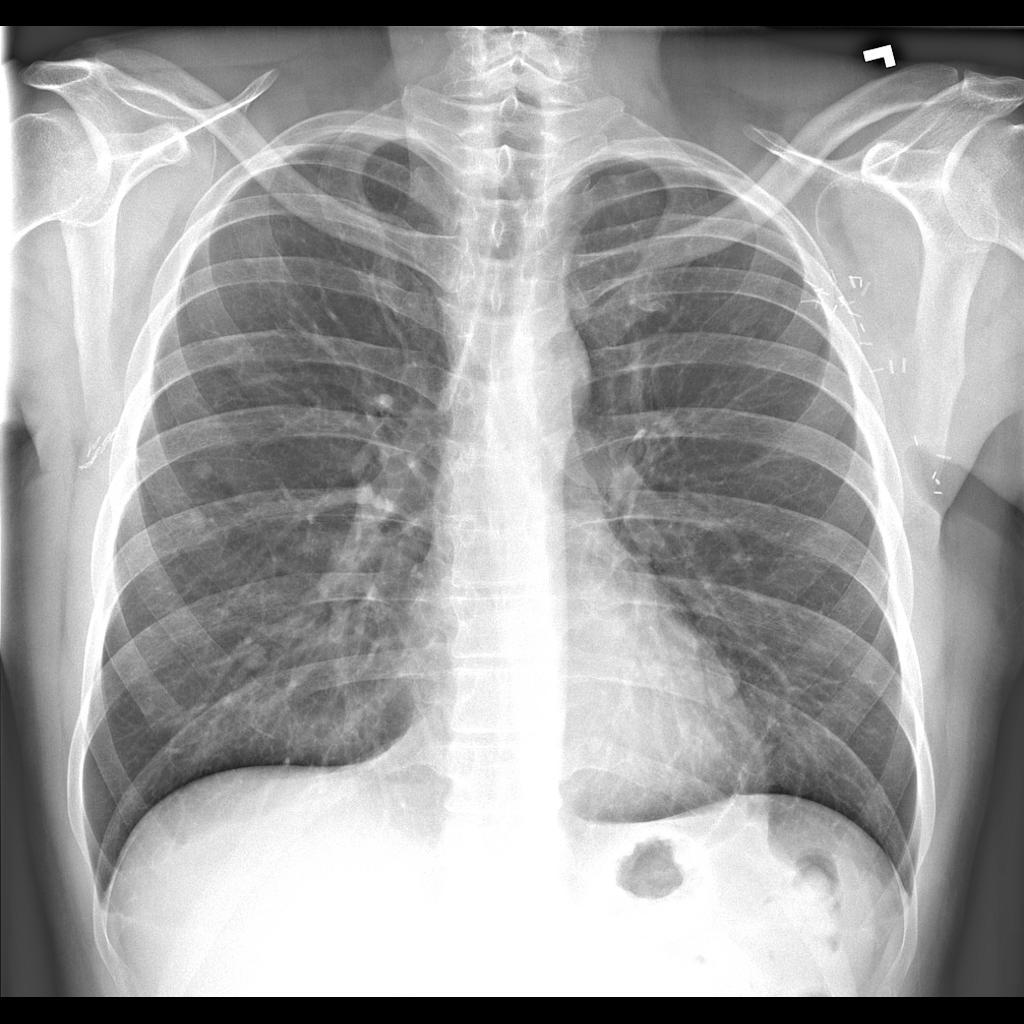Nodule: (238, 636, 274, 682), (188, 460, 218, 484)
